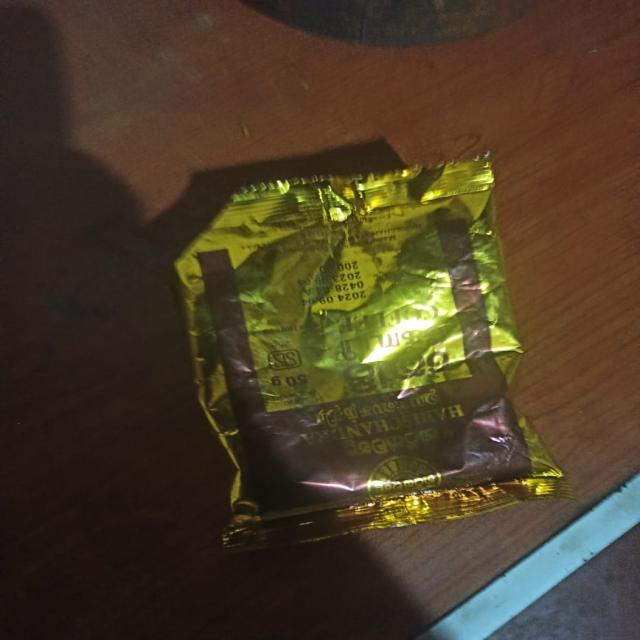Harischandra Coffee: (187, 184, 567, 550)
